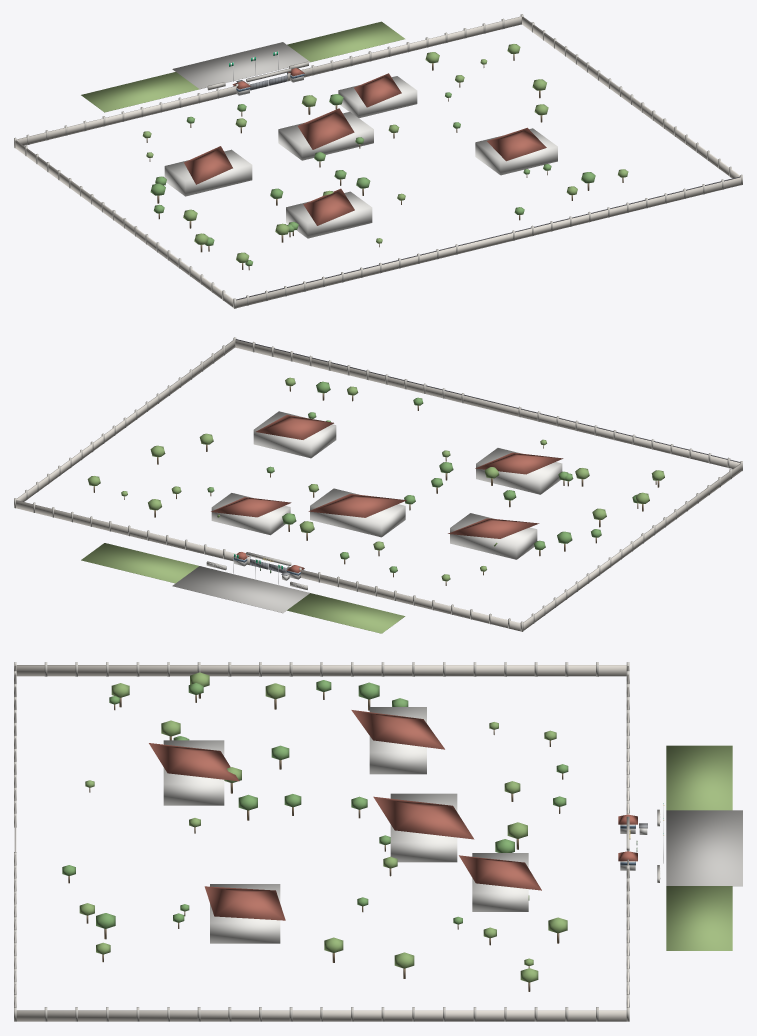
File: presidential_villa.glb
3 views of the same model, one above another, from view 1: azimuth 30°, elevation 25°; view 2: azimuth 150°, elevation 25°; view 3: azimuth 270°, elevation 25° (orthographic). The views are drawn at different scales.
Visible parts, largest first — view 1: BLD_presidential_villa; view 2: BLD_presidential_villa; view 3: BLD_presidential_villa.
Part boxes in pixels (<box>): BLD_presidential_villa: <box>14,14,742,308</box>; BLD_presidential_villa: <box>14,337,742,633</box>; BLD_presidential_villa: <box>14,662,742,1021</box>.
Bounding box in the file's own units: 321 × 13.88 × 286.
